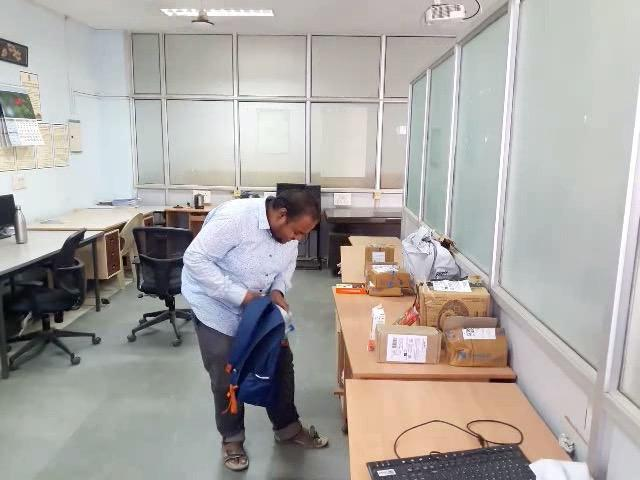shoplifting: (121, 239, 383, 414)
